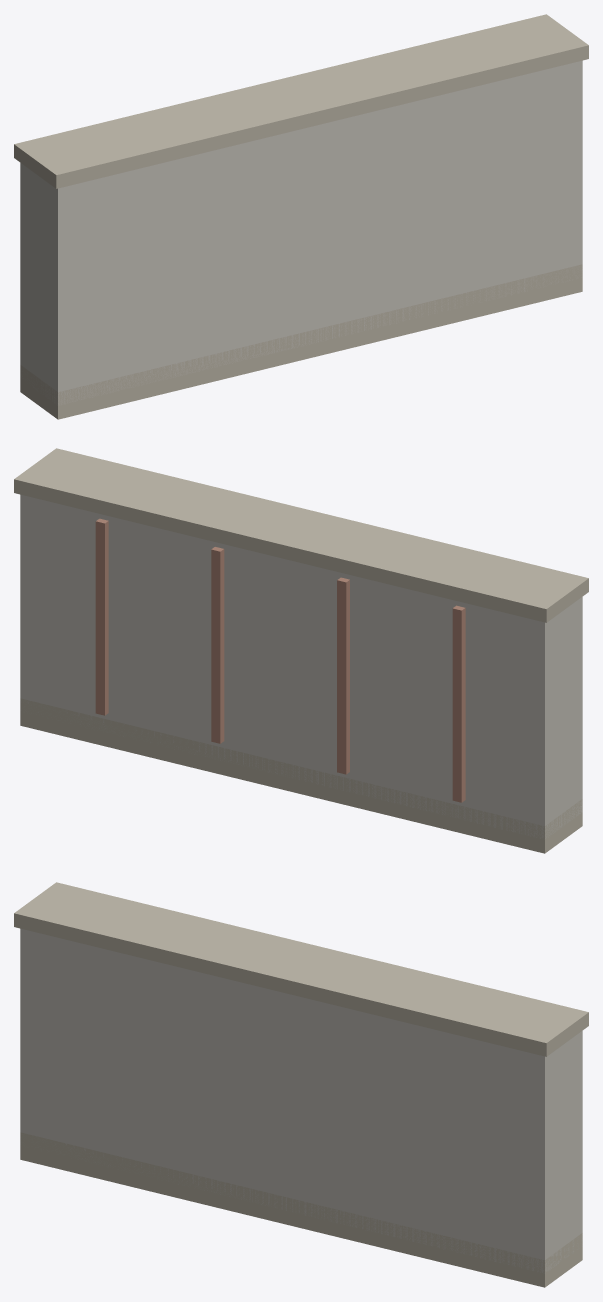
File: iz3_historic_palace_01.glb
3 renders of one model, top to bottom at view 1: azimuth 30°, elevation 25°; view 2: azimuth 150°, elevation 25°; view 3: azimuth 330°, elevation 25°, orthographic.
Parts seen in each view (by area): view 1: facade, cornice, plinth; view 2: facade, cornice, plinth, pilaster (×4); view 3: facade, cornice, plinth.
Boxes of the visible parts, x1,y1,x2,y2 form: facade: (20,60,582,405); cornice: (14,14,588,188); plinth: (20,264,582,419); facade: (20,494,582,839); cornice: (14,448,588,622); plinth: (20,698,582,853); pilaster (×4): (95,518,465,802); facade: (20,928,582,1273); cornice: (14,882,588,1056); plinth: (20,1132,582,1287).
Bounding box in the file's own units: 8.12 × 3.6 × 1.16.
